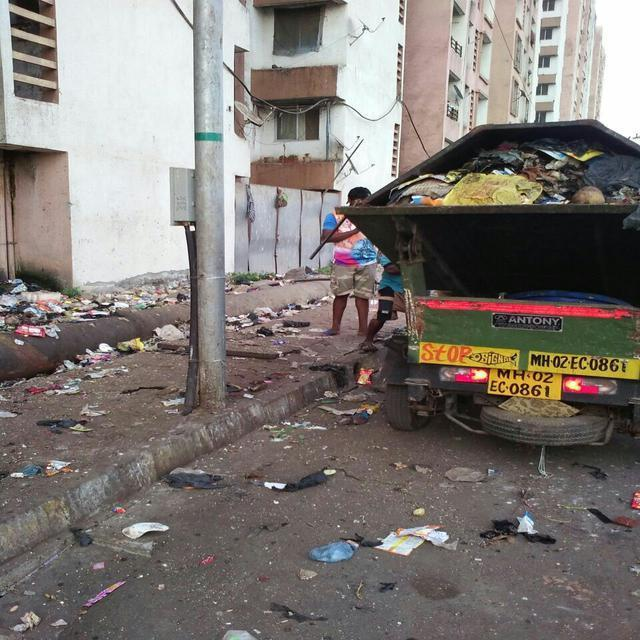garbage: (423, 146, 606, 200), (368, 514, 459, 564), (0, 280, 73, 337), (78, 284, 166, 305), (59, 345, 142, 366), (162, 465, 224, 493), (221, 300, 283, 323)
